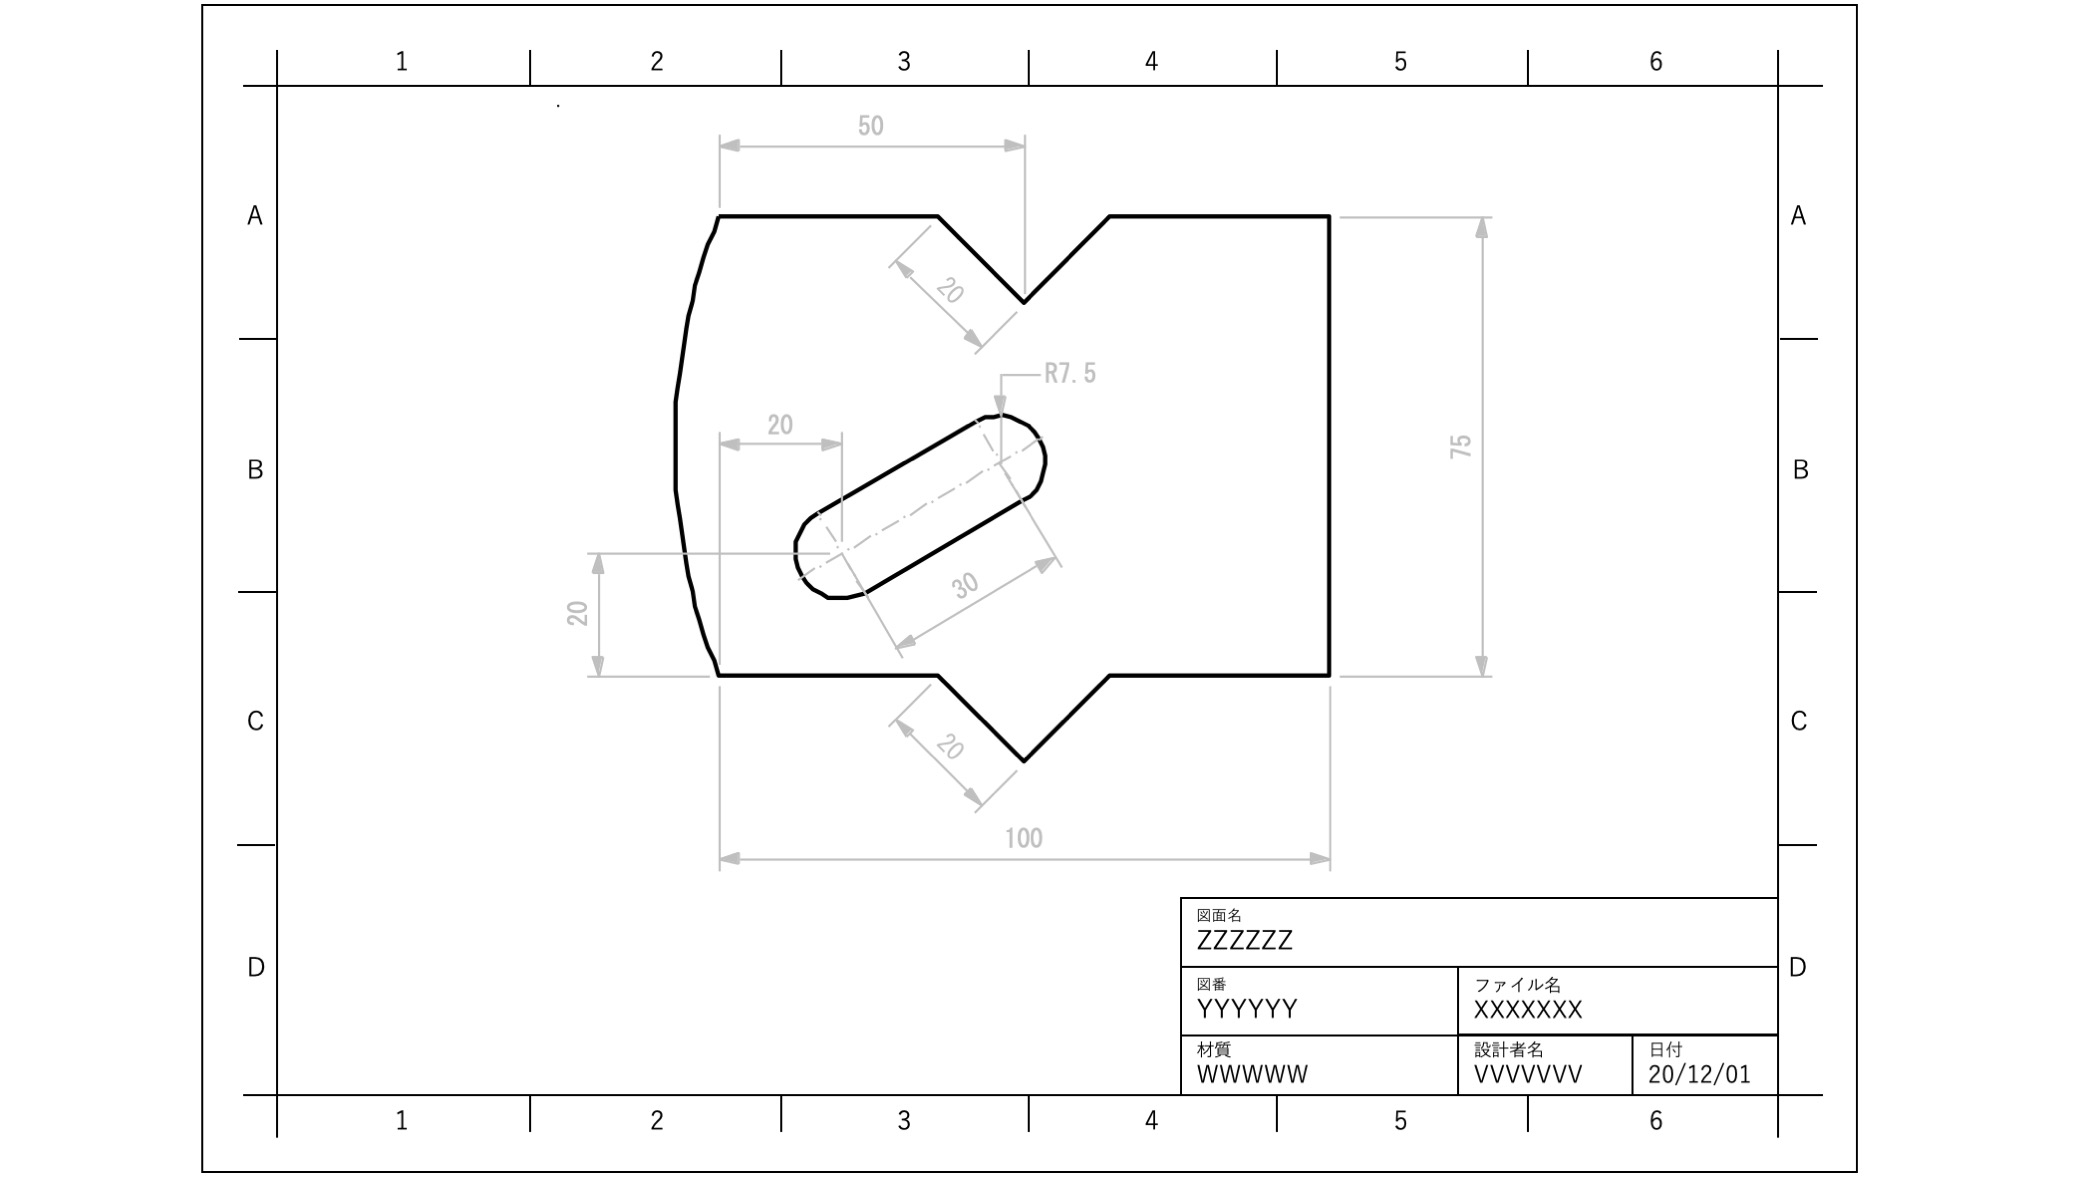round_rectangle: (790, 405, 1054, 600)
